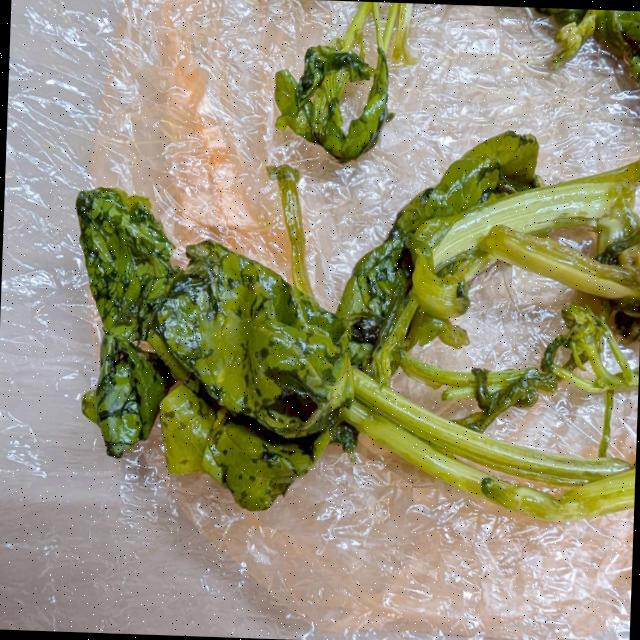rotten spinach: (66, 0, 640, 548), (83, 149, 355, 522), (317, 236, 621, 536), (337, 108, 600, 381), (242, 0, 455, 173)
